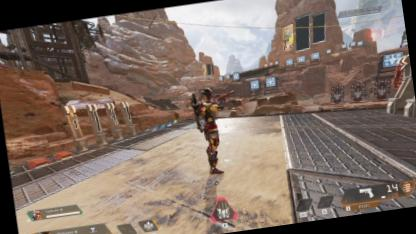Target: (191, 86, 225, 176)
